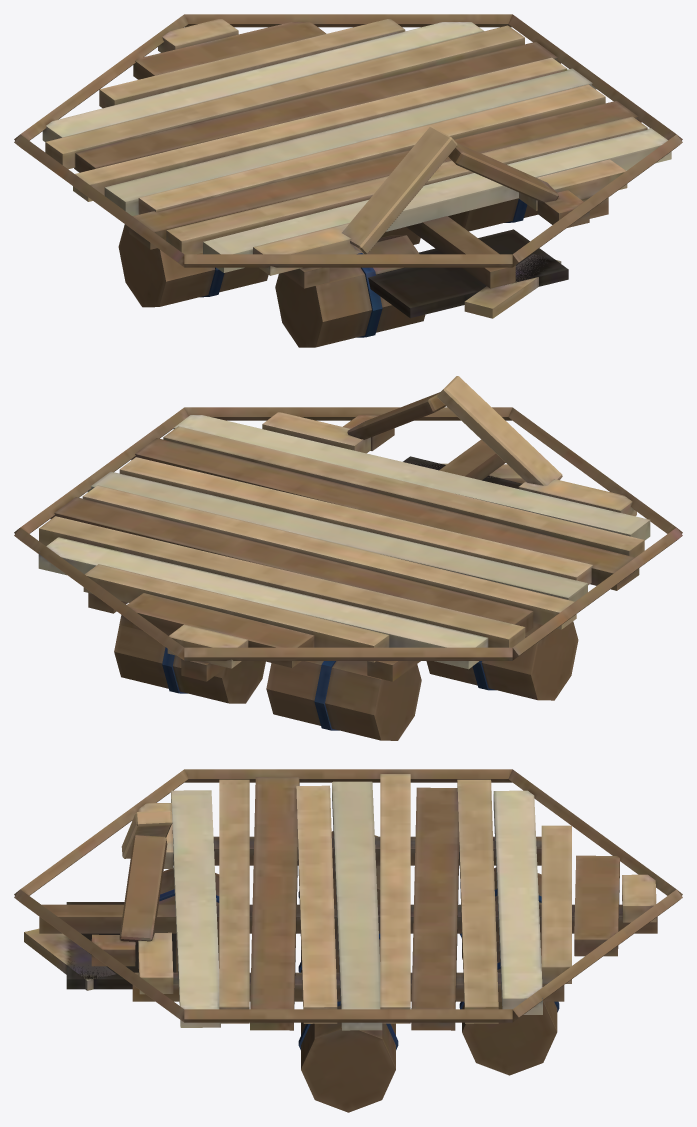
Rendered from raft-damaged-age1.glb.
The picture shows the model from 3 angles, top to bottom: view 1: azimuth 30°, elevation 25°; view 2: azimuth 150°, elevation 25°; view 3: azimuth 270°, elevation 25°; orthographic projection.
Visible parts, largest first — view 1: raft-damaged-age1; view 2: raft-damaged-age1; view 3: raft-damaged-age1.
Part boxes in pixels (<box>): raft-damaged-age1: <box>14,14,682,347</box>; raft-damaged-age1: <box>14,376,682,740</box>; raft-damaged-age1: <box>14,769,682,1112</box>.
Size of the model in its own units: 1.59 by 0.6018 by 1.83.
1 material, 1 textured.
